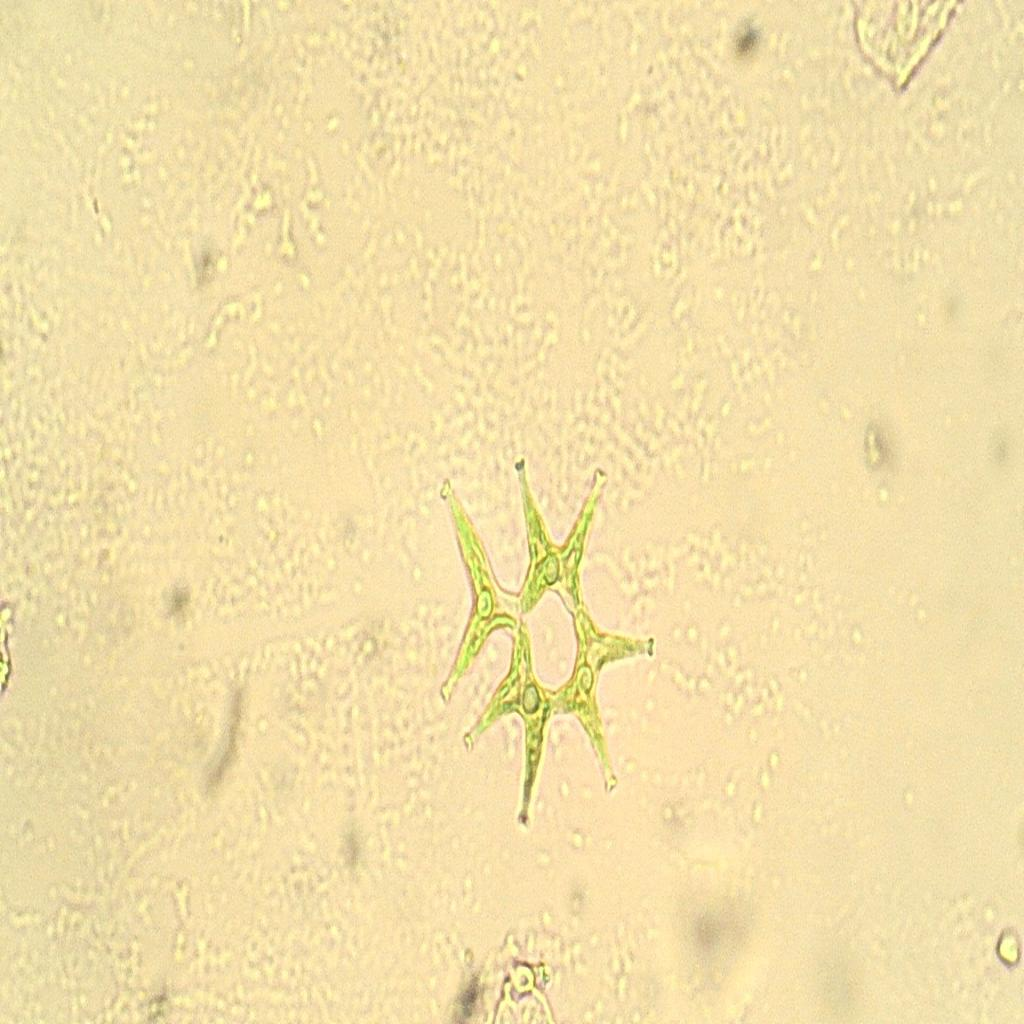Pediastrum_CT: (426, 438, 668, 840)
